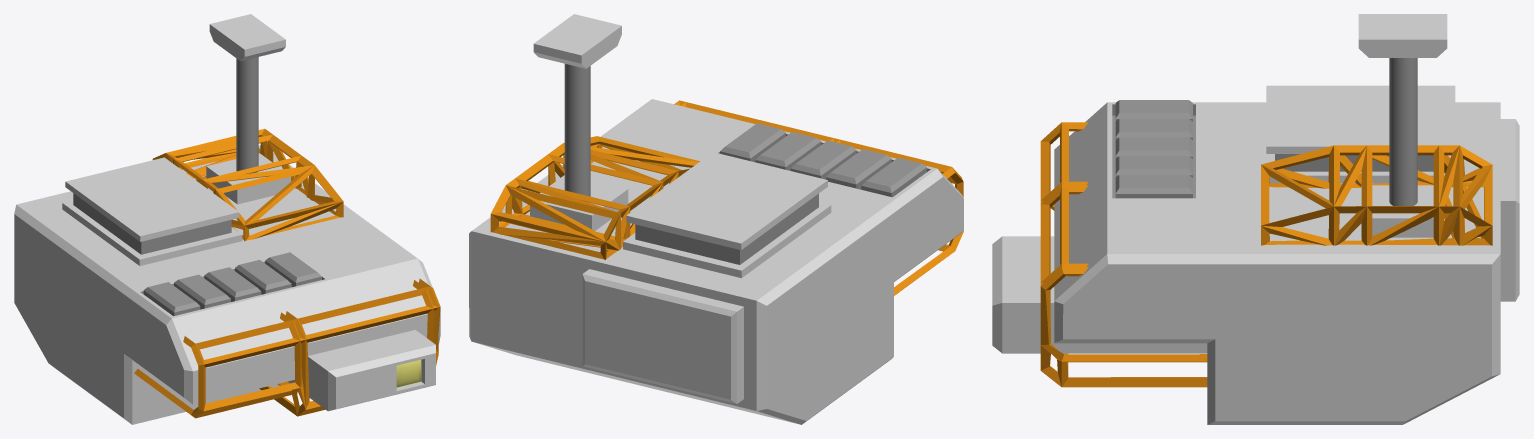
Rendered from RoverCore.fbx.
The picture shows the model from 3 angles, left to right: view 1: azimuth 30°, elevation 25°; view 2: azimuth 150°, elevation 25°; view 3: azimuth 270°, elevation 25°; orthographic projection. The views are drawn at different scales.
Parts seen in each view (by area): view 1: Cube.004; view 2: Cube.004; view 3: Cube.004.
Part boxes in pixels (x1,y1,x2,y2): Cube.004: (14, 14, 440, 424); Cube.004: (469, 14, 963, 424); Cube.004: (992, 14, 1519, 424).
Bounding box in the file's own units: 86.78 × 93.5 × 122.
